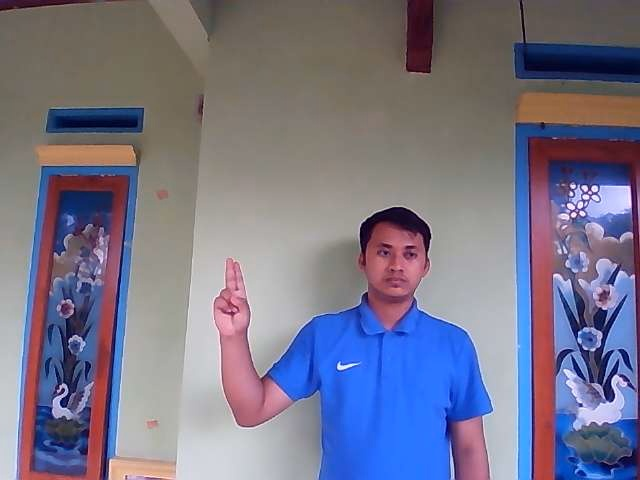U: (212, 257, 251, 337)
